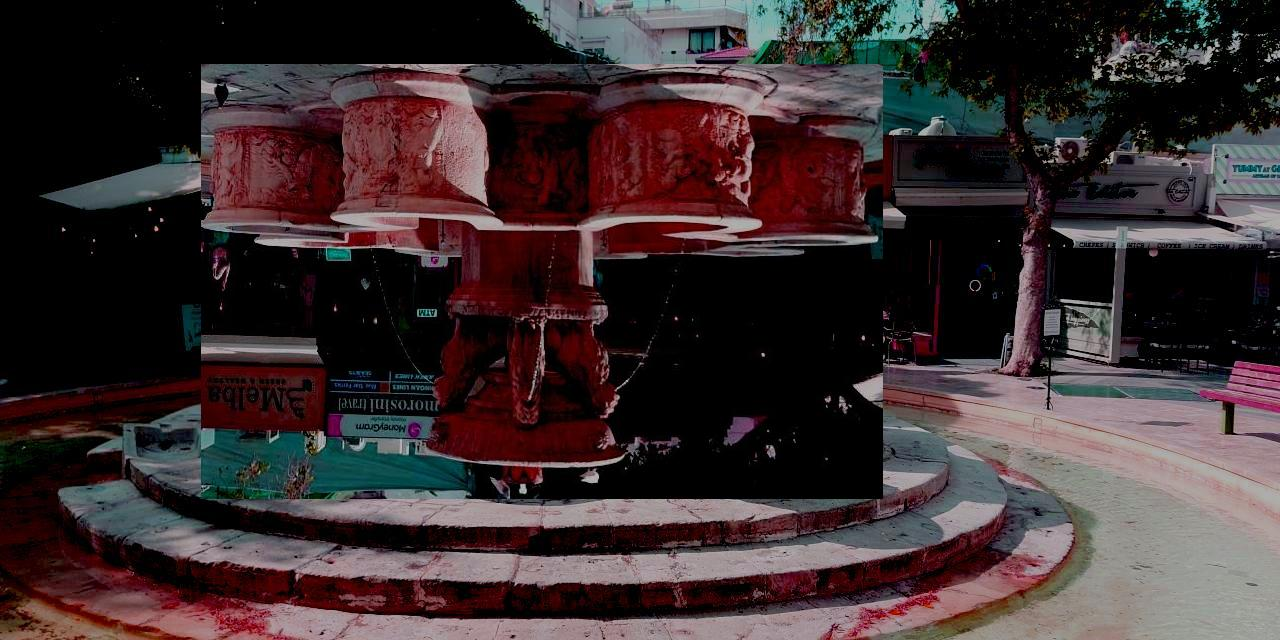Liontaria: (202, 65, 884, 500)
